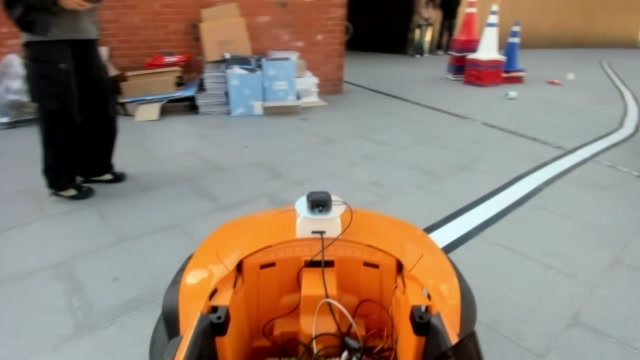Lane: (421, 59, 640, 256)
